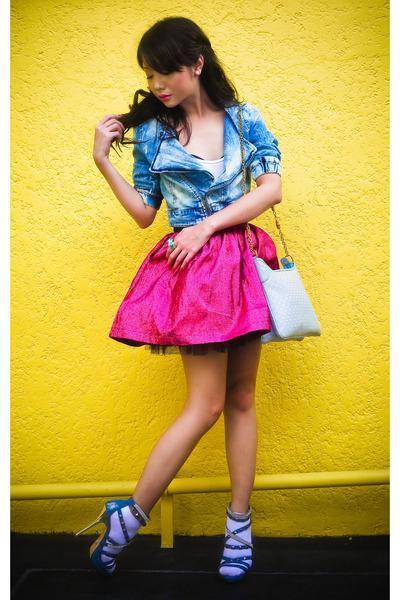bag: (254, 258, 319, 341)
shirt: (133, 93, 280, 231)
shoe: (90, 498, 252, 577)
skirt: (109, 215, 275, 349)
